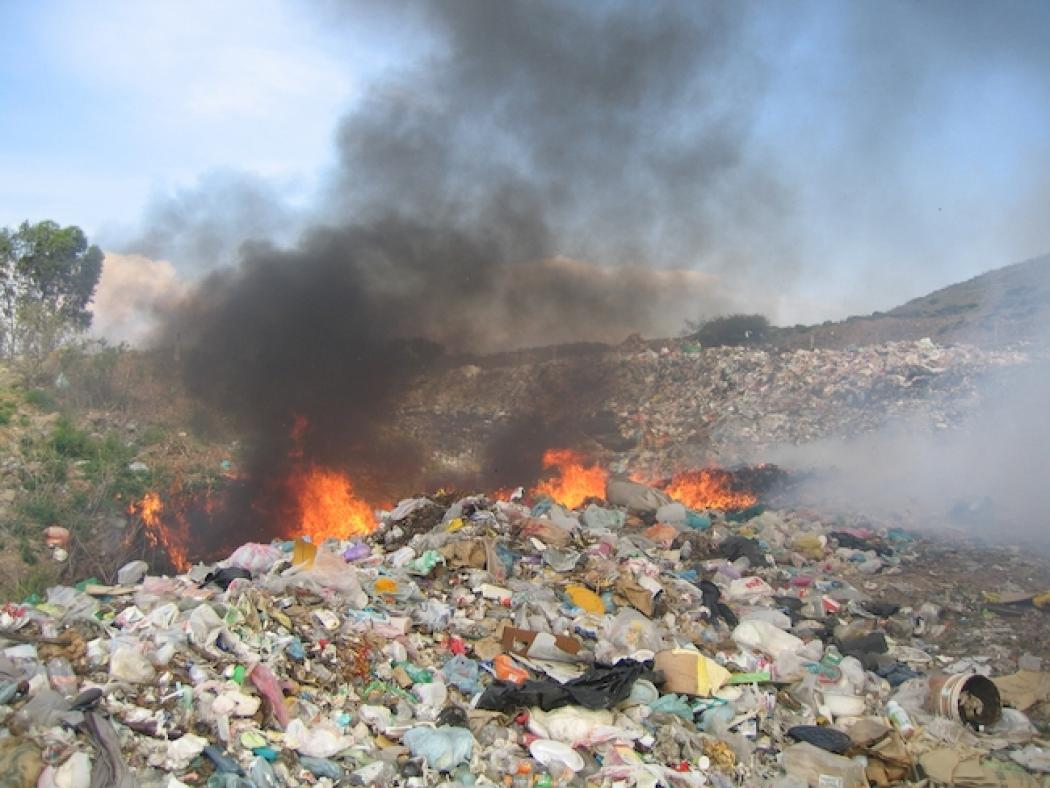fire: (484, 432, 771, 520), (240, 420, 383, 554)
